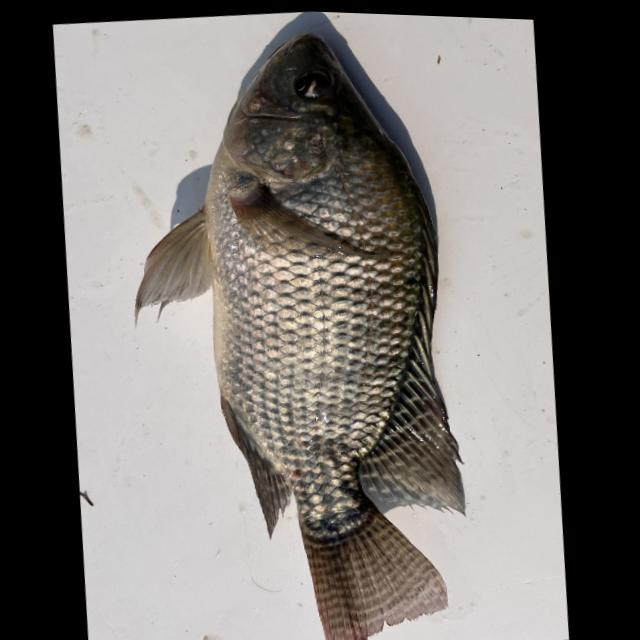Tilapia: (99, 16, 490, 640)
